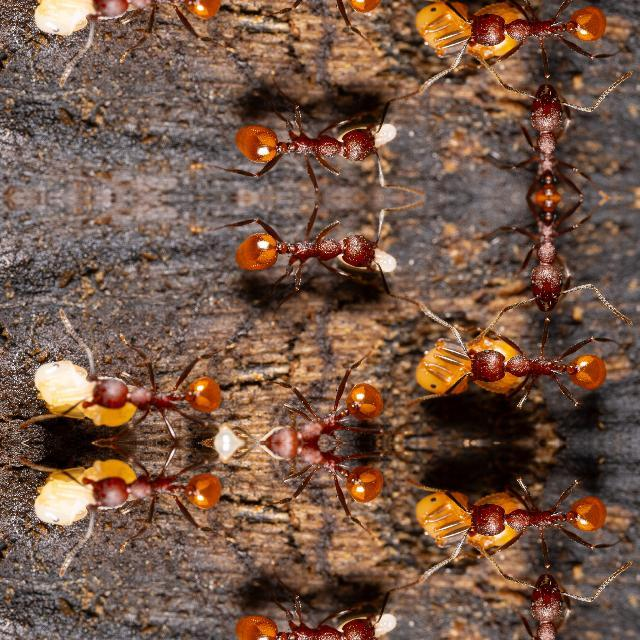Apheanogaster: (394, 314, 630, 404), (394, 481, 630, 571), (473, 198, 637, 314), (473, 80, 637, 196), (394, 0, 630, 80), (214, 373, 410, 441), (214, 444, 410, 512), (213, 216, 411, 282), (213, 112, 411, 178), (473, 570, 637, 640), (62, 369, 245, 427), (62, 458, 245, 516), (213, 602, 411, 640), (60, 0, 243, 24), (213, 0, 408, 20)
